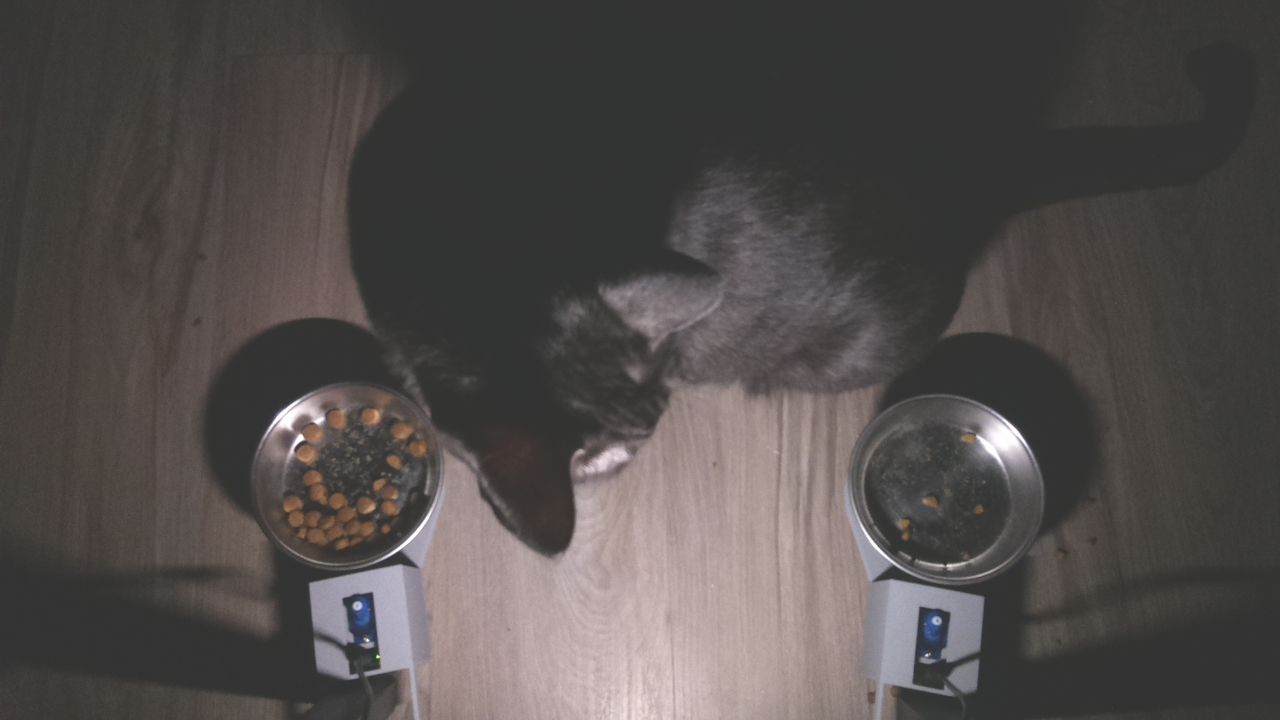open_bowl: (845, 389, 1050, 597), (244, 380, 441, 576)
saki: (382, 213, 728, 566)
